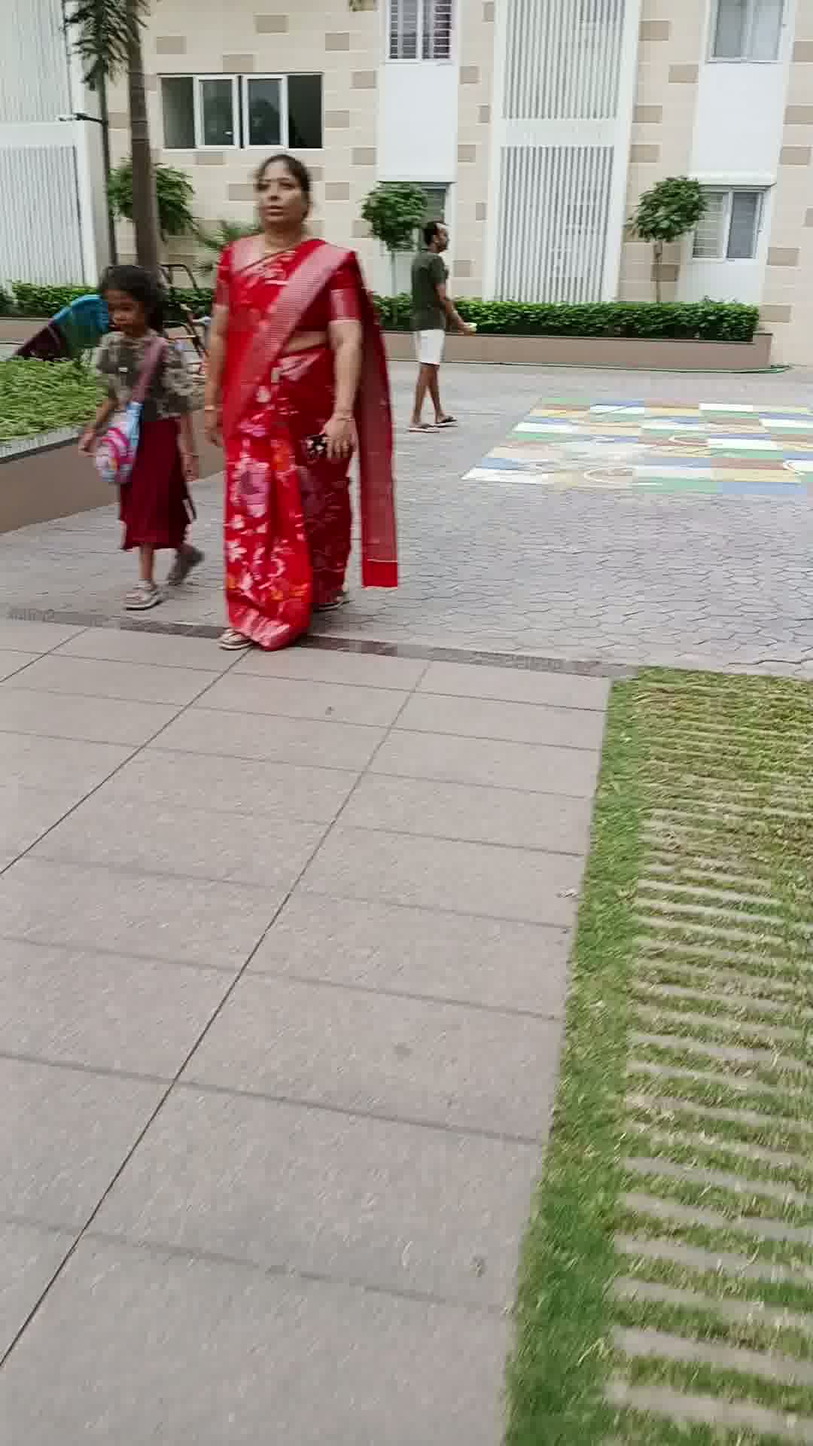person: (191, 125, 401, 695), (77, 233, 205, 621), (395, 194, 481, 438)
tree: (60, 6, 188, 259), (600, 157, 743, 356), (353, 157, 452, 330)
